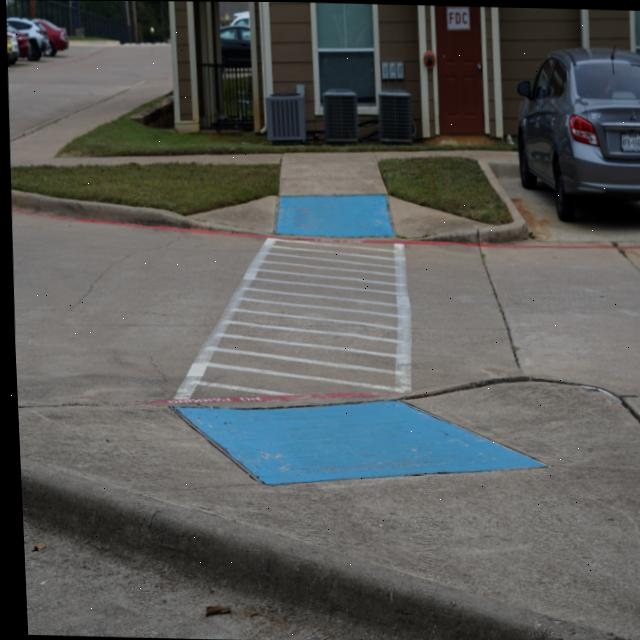Automobile: (513, 50, 640, 198)
Obstacle: (263, 84, 304, 142), (321, 88, 357, 142), (377, 89, 413, 142)
Road: (9, 172, 640, 402), (18, 506, 429, 640), (7, 43, 168, 135)
Sidewalk: (14, 385, 640, 640), (8, 79, 512, 237)
